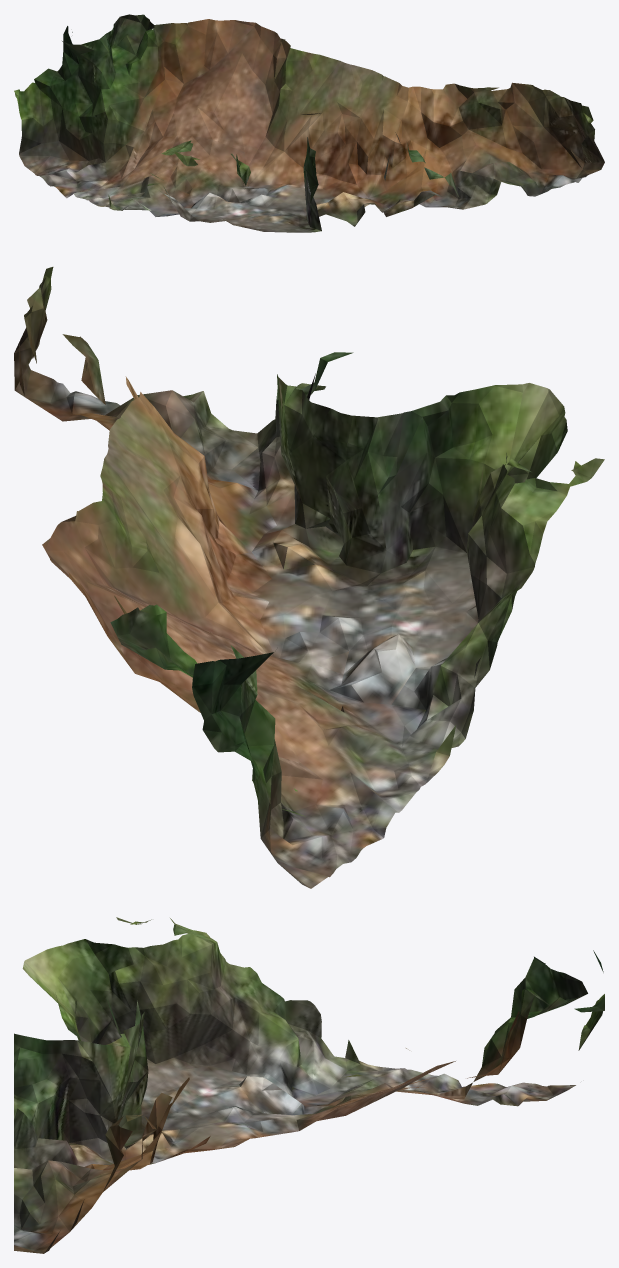
The picture shows the model from 3 angles, top to bottom: view 1: azimuth 30°, elevation 25°; view 2: azimuth 150°, elevation 25°; view 3: azimuth 270°, elevation 25°; orthographic projection. The views are drawn at different scales.
Bounding box in the file's own units: 25.8 × 8.3 × 26.11.
Materials: 2 (2 with a texture image).
